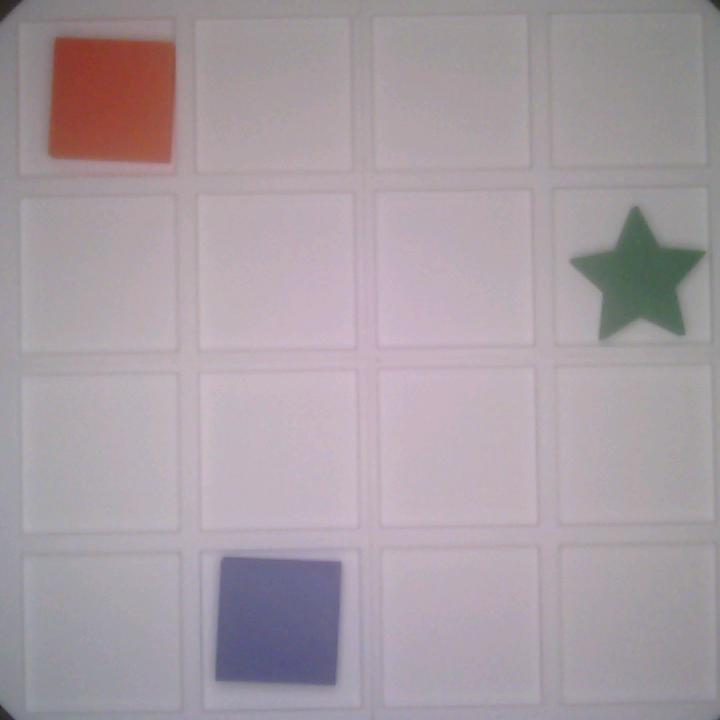Blue square: (211, 546, 352, 697)
Green star: (564, 201, 707, 345)
Orange square: (44, 37, 182, 169)
